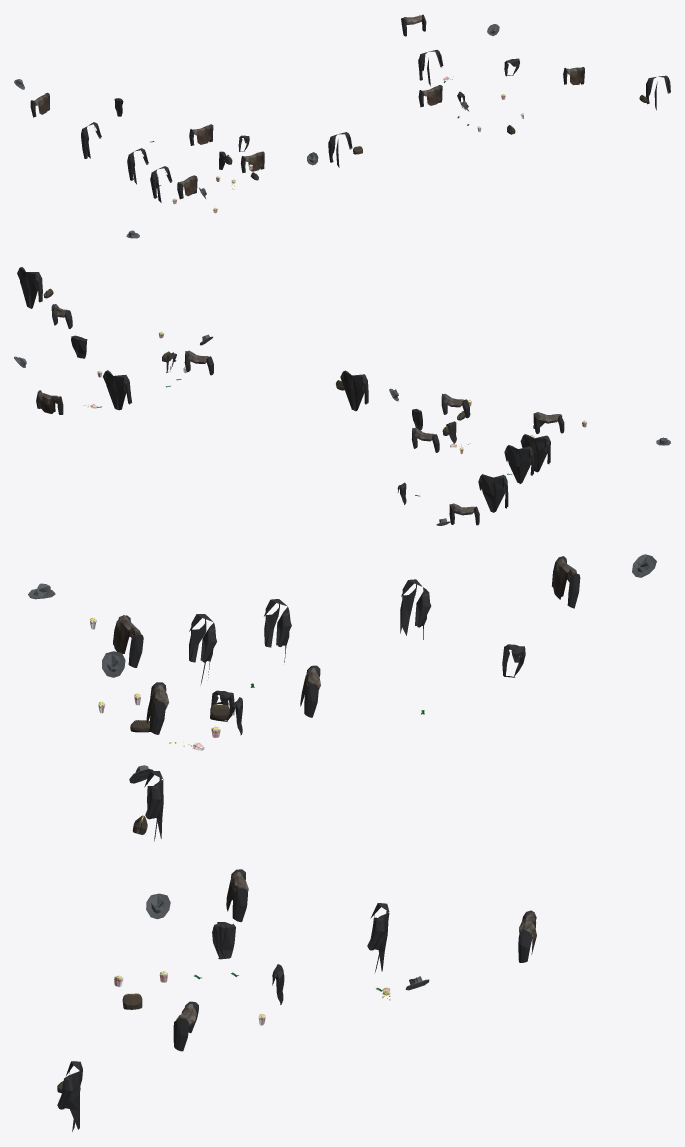
File: AmbientObjects.glb
3 views of the same model, one above another, from view 1: azimuth 30°, elevation 25°; view 2: azimuth 150°, elevation 25°; view 3: azimuth 270°, elevation 25° (orthographic). The views are drawn at different scales.
Parts seen in each view (by area): view 1: chairsProps roselandTheatre; view 2: chairsProps roselandTheatre; view 3: chairsProps roselandTheatre.
Boxes of the visible parts, x1=… form: chairsProps roselandTheatre: x1=14, y1=14, x2=670, y2=238; chairsProps roselandTheatre: x1=14, y1=267, x2=670, y2=525; chairsProps roselandTheatre: x1=28, y1=554, x2=656, y2=1131.
Bounding box in the file's own units: 1807 × 157 × 896.
Materials: 1 (1 with a texture image).
